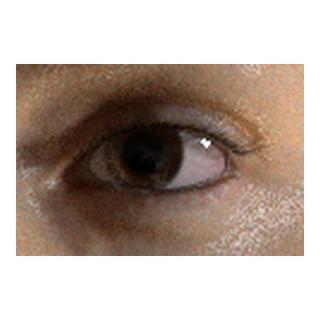pupil: (124, 132, 163, 172)
